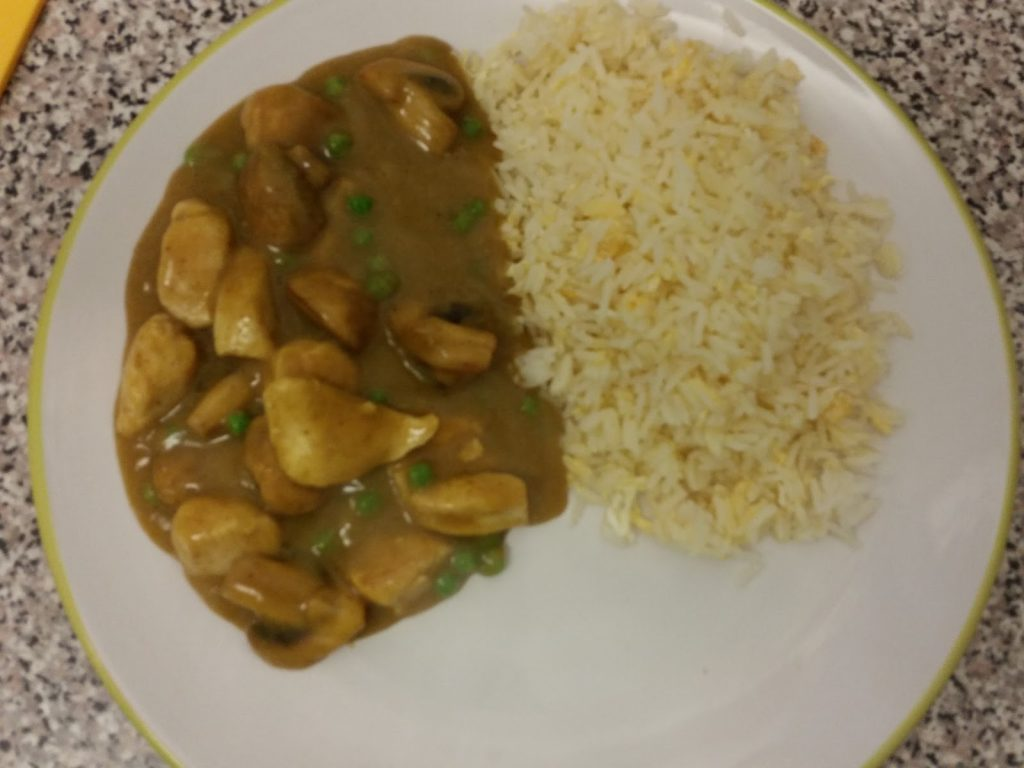curry: (198, 87, 499, 595), (232, 319, 505, 623), (149, 233, 359, 513), (251, 83, 472, 328)
